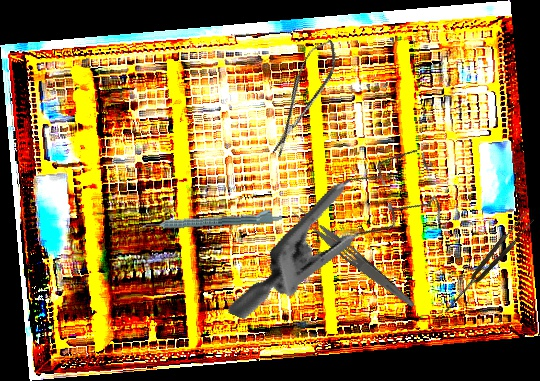Dressing Forceps: (289, 203, 420, 311)
Handpiece: (141, 207, 284, 231)
Micro Scissor: (259, 34, 346, 161)
Speculum: (226, 106, 463, 376)
Tissue Forceps: (439, 211, 536, 317)
